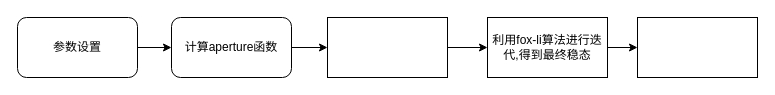
This 775x95 diagram has some shape labels left out. Each missing label, with the box of its shape:
计算相应的空间传输矩阵: (326, 16, 448, 78)
输出结果: (636, 16, 758, 78)
